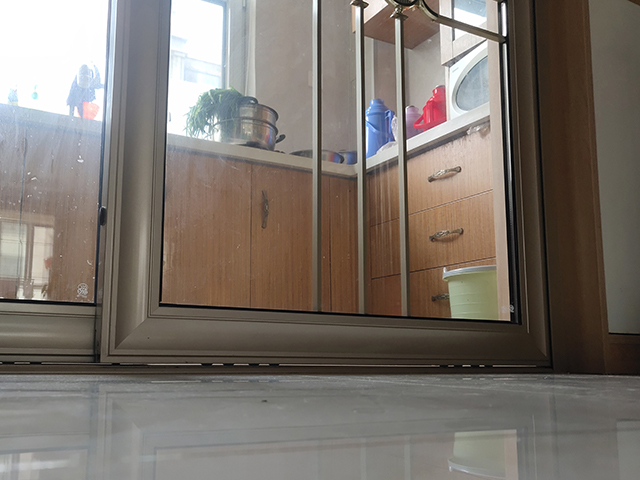cabinet: (169, 124, 352, 310), (360, 112, 498, 320), (1, 106, 104, 299)
trashcan: (440, 263, 500, 321)
